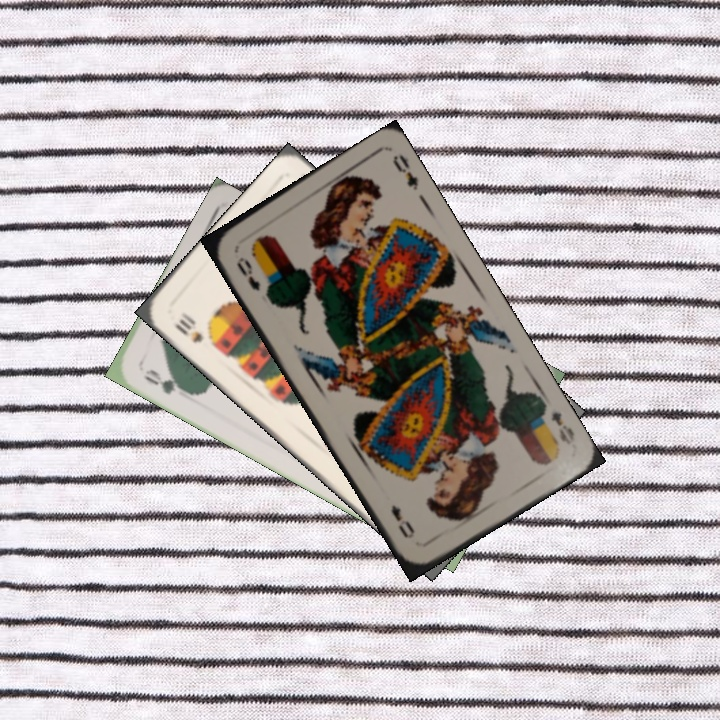EO: (232, 252, 263, 294), (547, 407, 578, 447)
GO: (139, 364, 191, 397)
S10: (171, 308, 206, 346)
